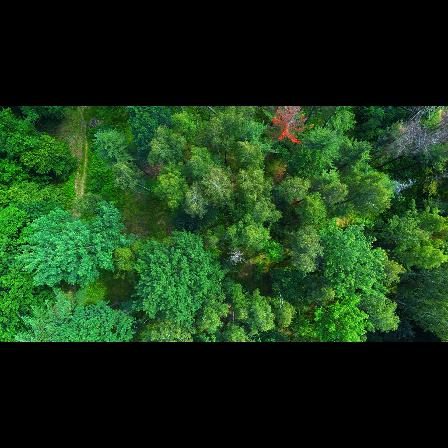Dead: (378, 141, 430, 172), (387, 106, 434, 134), (382, 132, 426, 156), (381, 178, 424, 199), (225, 245, 248, 266)
